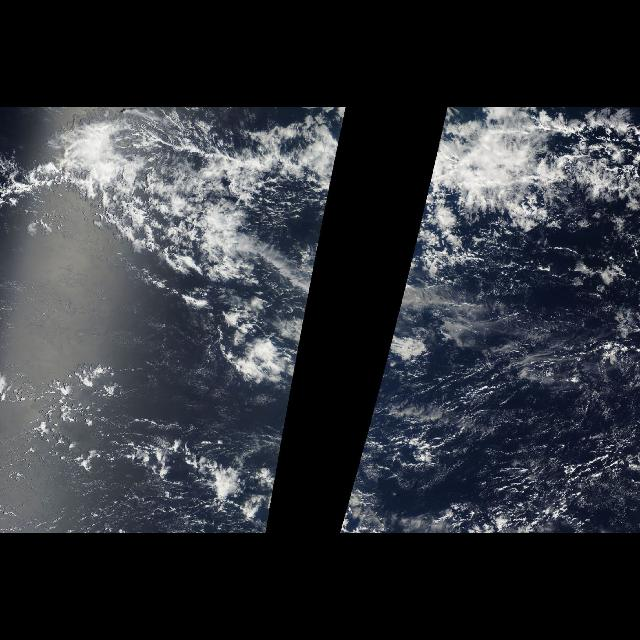Gravel: (434, 244, 618, 512)
